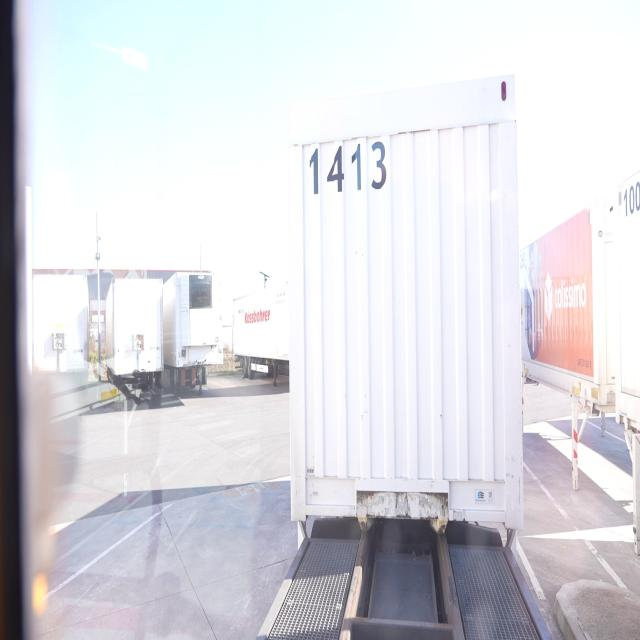Code: (304, 138, 394, 199)
